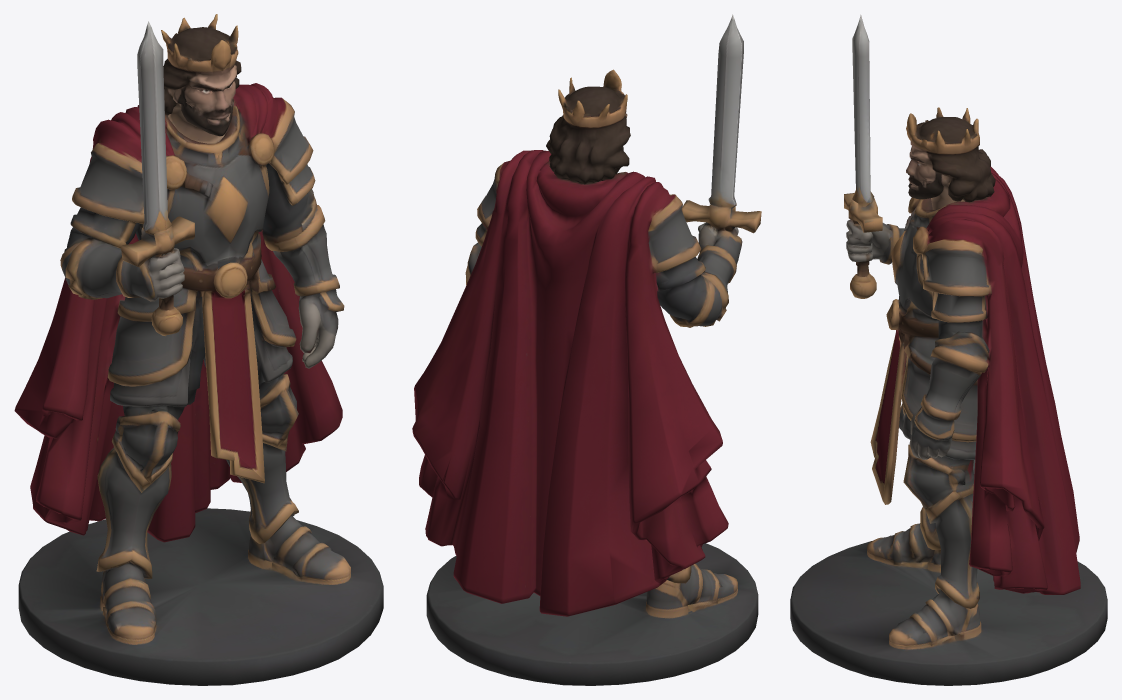
File: king-arthur-tripo-5cb29330-smartuv-tex2k-pbr.glb
3 renders of one model, left to right at view 1: azimuth 30°, elevation 25°; view 2: azimuth 150°, elevation 25°; view 3: azimuth 270°, elevation 25°, orthographic. The views are drawn at different scales.
Parts seen in each view (by area): view 1: tripo_node_5f8b3c87-f125-46e5-a0ee-4a0622274186; view 2: tripo_node_5f8b3c87-f125-46e5-a0ee-4a0622274186; view 3: tripo_node_5f8b3c87-f125-46e5-a0ee-4a0622274186.
Boxes of the visible parts, x1,y1,x2,y2 form: tripo_node_5f8b3c87-f125-46e5-a0ee-4a0622274186: (14,14,383,685); tripo_node_5f8b3c87-f125-46e5-a0ee-4a0622274186: (412,14,761,685); tripo_node_5f8b3c87-f125-46e5-a0ee-4a0622274186: (790,14,1107,685).
Size of the model in its own units: 0.5075 by 0.9786 by 0.4999.
Materials: 1 (1 with a texture image).
